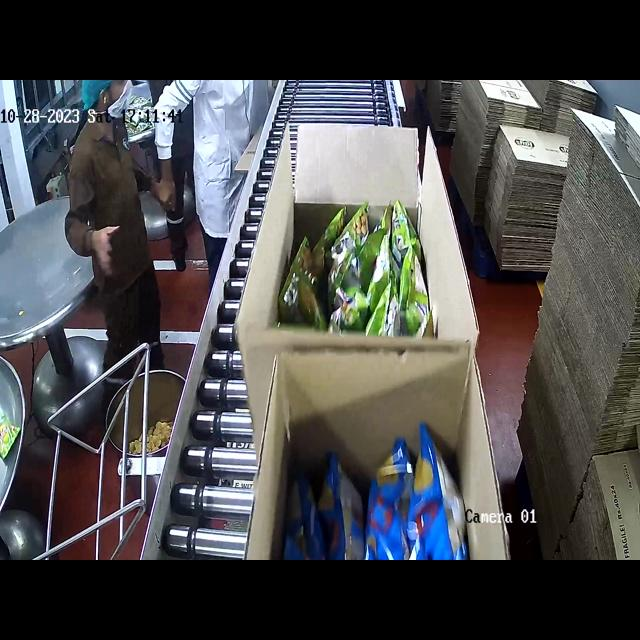paprika: (291, 443, 505, 560)
yogurt: (276, 198, 430, 337)
